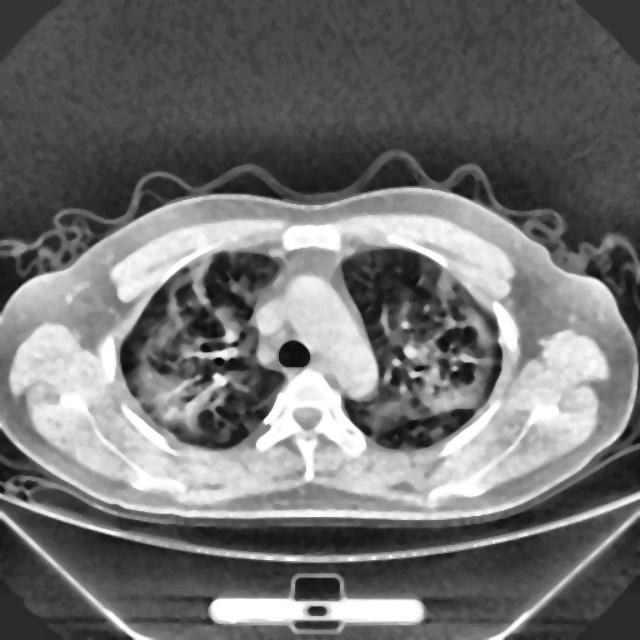covid: (1, 168, 637, 527)
